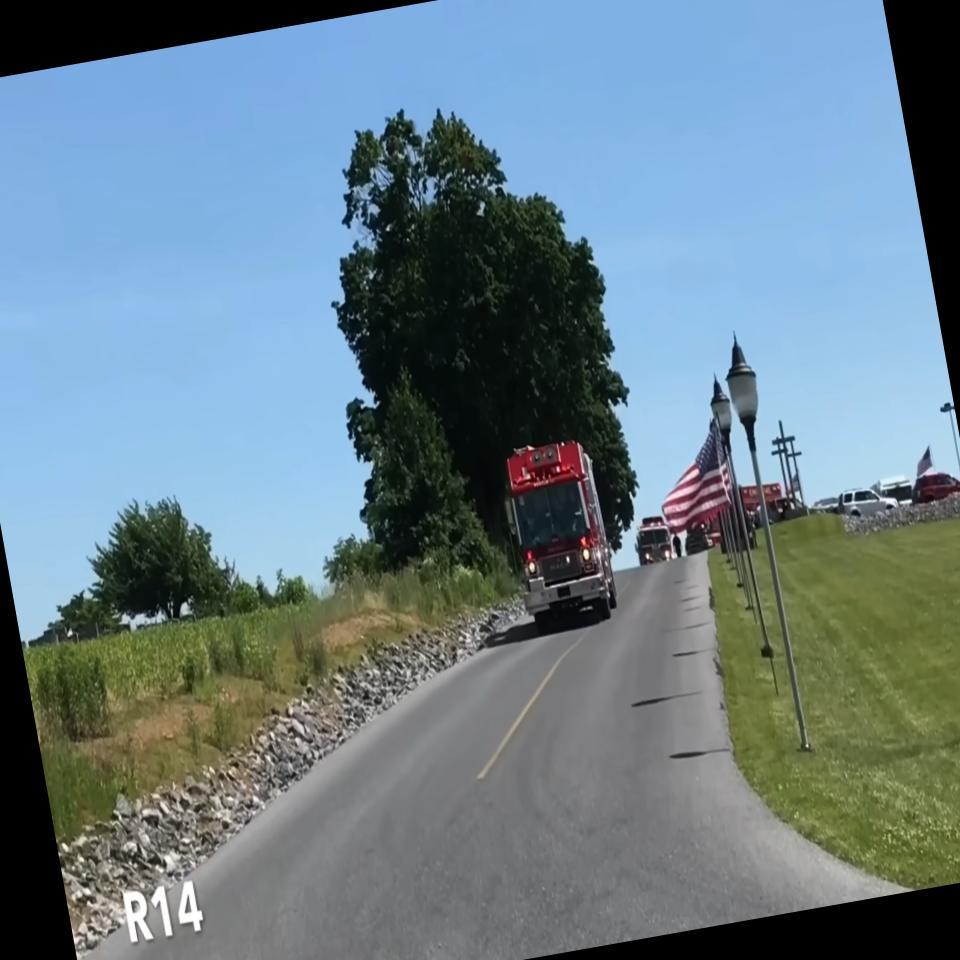viatura: (496, 434, 622, 633)
